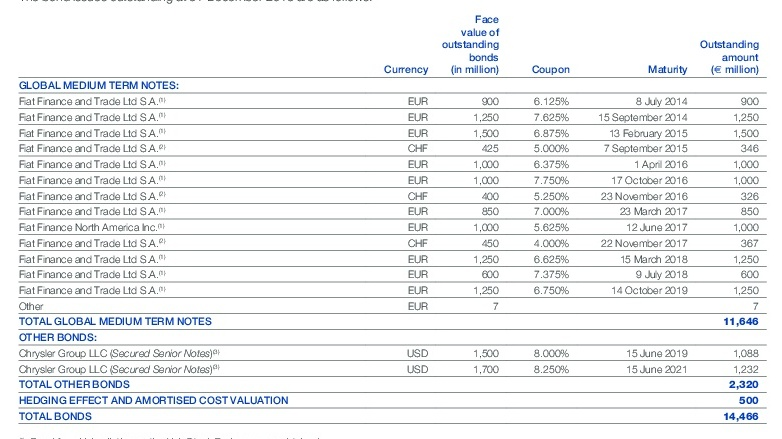table: (0, 0, 782, 439)
